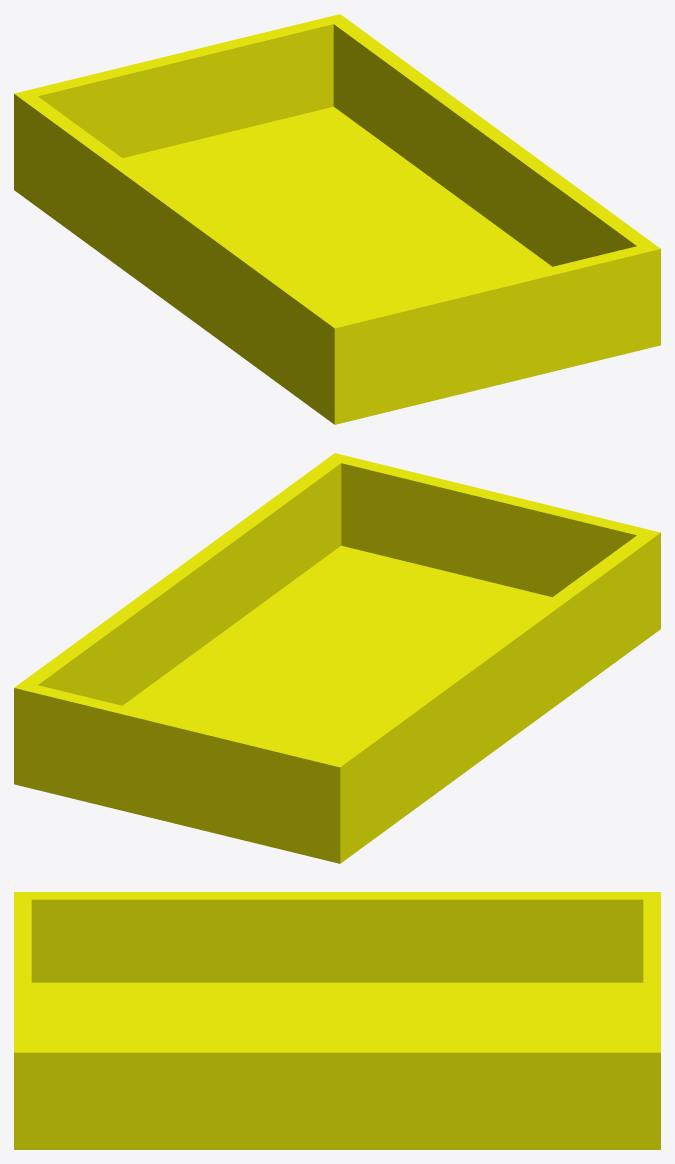
The model's file is BoxTray.fbx.
3 views of the same model, one above another, from view 1: azimuth 30°, elevation 25°; view 2: azimuth 150°, elevation 25°; view 3: azimuth 270°, elevation 25° (orthographic).
Parts seen in each view (by area): view 1: Holding Box; view 2: Holding Box; view 3: Holding Box.
Boxes of the visible parts, x1,y1,x2,y2 form: Holding Box: (14, 14, 660, 424); Holding Box: (14, 453, 660, 863); Holding Box: (14, 892, 660, 1149).
Bounding box in the file's own units: 15.03 × 4.25 × 25.61.
